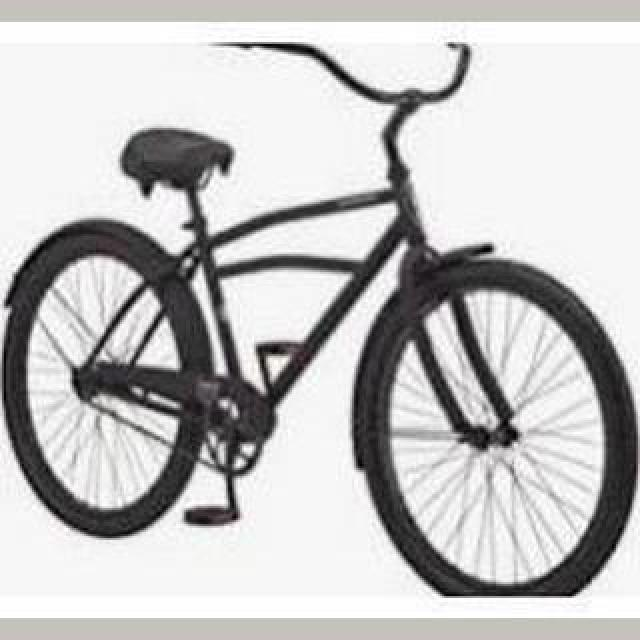Person: (0, 37, 636, 599)
